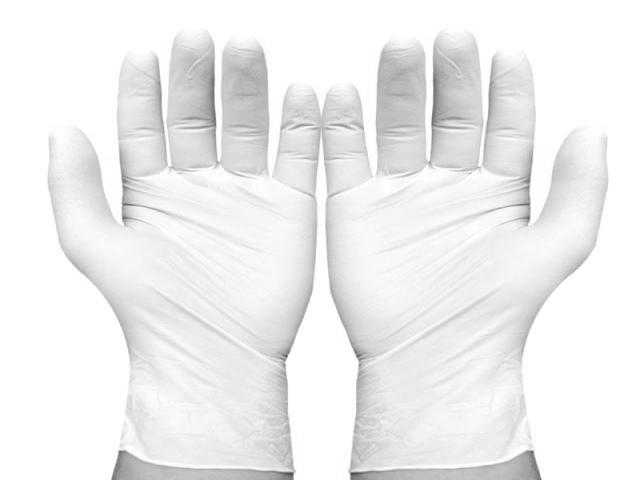gloved: (322, 27, 608, 362), (46, 25, 320, 356)
